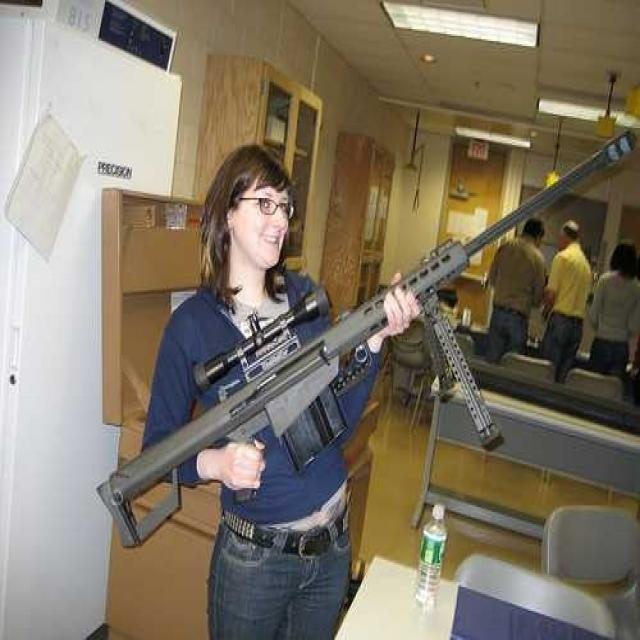weapon: (82, 109, 635, 567)
